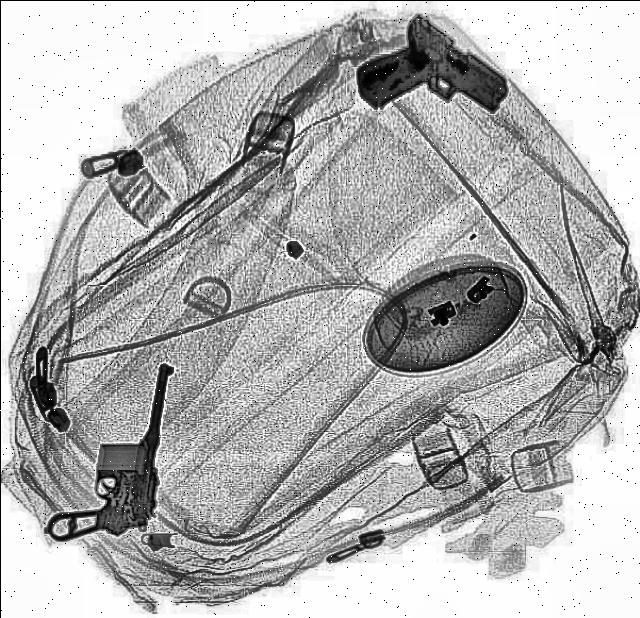Gun: (345, 6, 521, 158), (45, 350, 177, 548)
